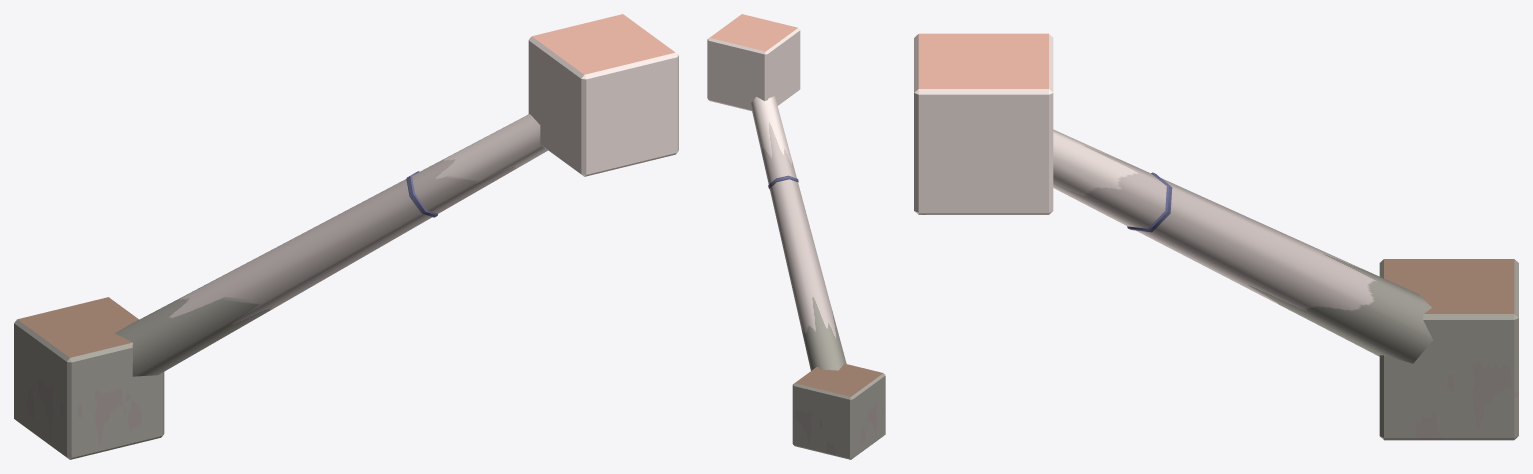
File: R4C_ROD_DIAG_3D_LOD1.glb
3 views of the same model, side by side, from view 1: azimuth 30°, elevation 25°; view 2: azimuth 150°, elevation 25°; view 3: azimuth 270°, elevation 25° (orthographic). The views are drawn at different scales.
Parts seen in each view (by area): view 1: R4C_ROD_DIAG_3D_LOD1; view 2: R4C_ROD_DIAG_3D_LOD1; view 3: R4C_ROD_DIAG_3D_LOD1.
Boxes of the visible parts, x1,y1,x2,y2 form: R4C_ROD_DIAG_3D_LOD1: (14,14,678,459); R4C_ROD_DIAG_3D_LOD1: (707,14,885,459); R4C_ROD_DIAG_3D_LOD1: (914,33,1518,440).
Bounding box in the file's own units: 1.62 × 1.62 × 1.62.
Materials: 3 (3 with a texture image).
